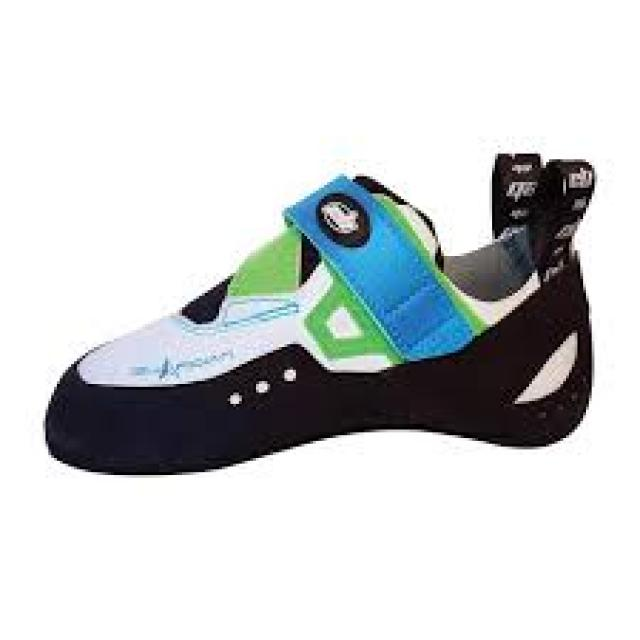climbing-shoes: (44, 149, 598, 475)
